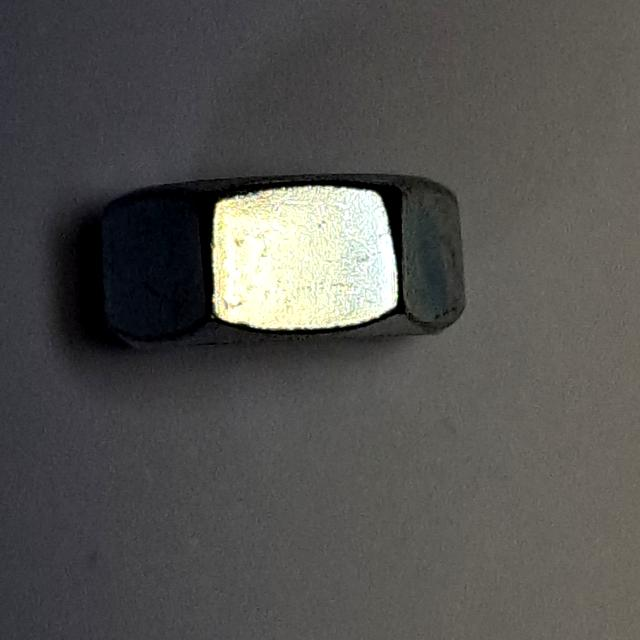Side_Excellent: (83, 155, 486, 371)
